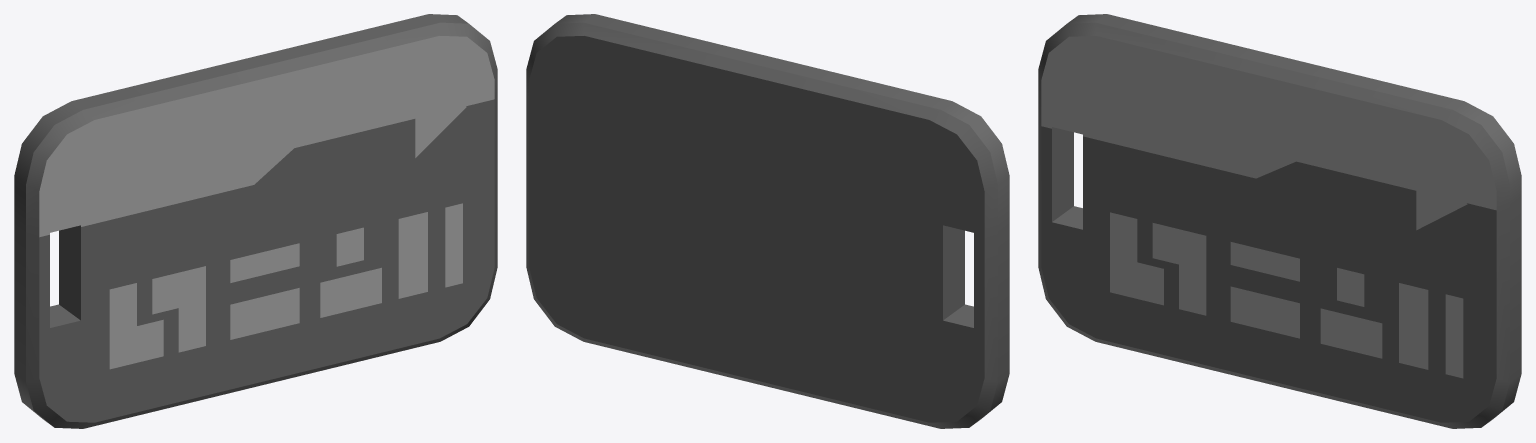
File: Pickup_KeyCard-transformed.glb
3 renders of one model, left to right at view 1: azimuth 30°, elevation 25°; view 2: azimuth 150°, elevation 25°; view 3: azimuth 330°, elevation 25°, orthographic.
Parts seen in each view (by area): view 1: Pickup_KeyCard; view 2: Pickup_KeyCard; view 3: Pickup_KeyCard.
Part boxes in pixels (box(x1,y1,x2,y2)): Pickup_KeyCard: box(14, 14, 497, 428); Pickup_KeyCard: box(526, 14, 1009, 428); Pickup_KeyCard: box(1038, 14, 1521, 428).
Size of the model in its own units: 1.04 by 0.6741 by 0.0876.
Materials: 1 (1 with a texture image).
